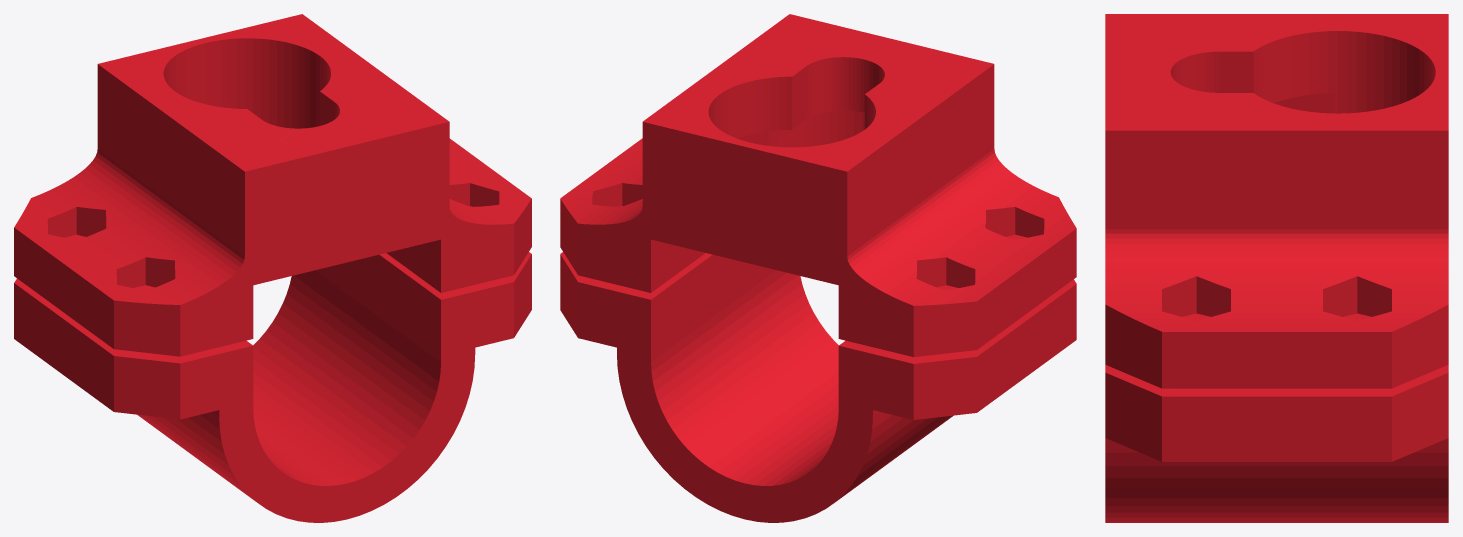
File: light_bracket.obj
3 views of the same model, side by side, from view 1: azimuth 30°, elevation 25°; view 2: azimuth 150°, elevation 25°; view 3: azimuth 270°, elevation 25° (orthographic). The views are drawn at different scales.
Visible parts, largest first — view 1: obj_0; view 2: obj_0; view 3: obj_0.
Boxes of the visible parts, x1=… form: obj_0: x1=14, y1=14, x2=531, y2=522; obj_0: x1=560, y1=14, x2=1076, y2=522; obj_0: x1=1105, y1=14, x2=1448, y2=522.
Size of the model in its own units: 49 by 41.75 by 29.89.
